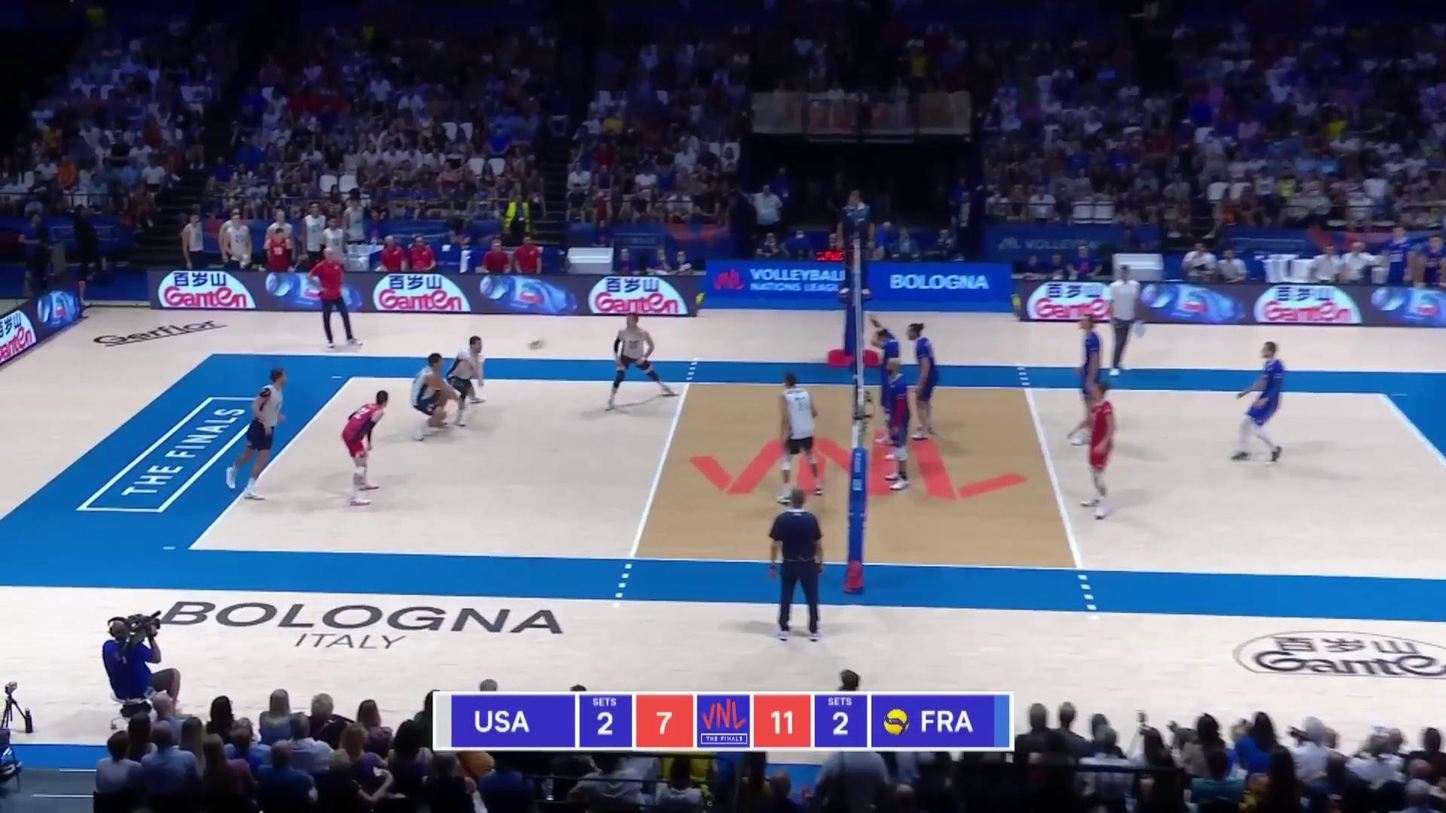player: (609, 315, 678, 412), (1071, 385, 1120, 519), (776, 373, 828, 496), (1235, 346, 1287, 467), (240, 373, 289, 500), (338, 388, 388, 502), (1072, 318, 1112, 445), (878, 365, 917, 493), (407, 353, 460, 445), (905, 325, 946, 441), (866, 326, 903, 435), (448, 335, 488, 428)
refree: (770, 485, 828, 639), (836, 190, 871, 293)
